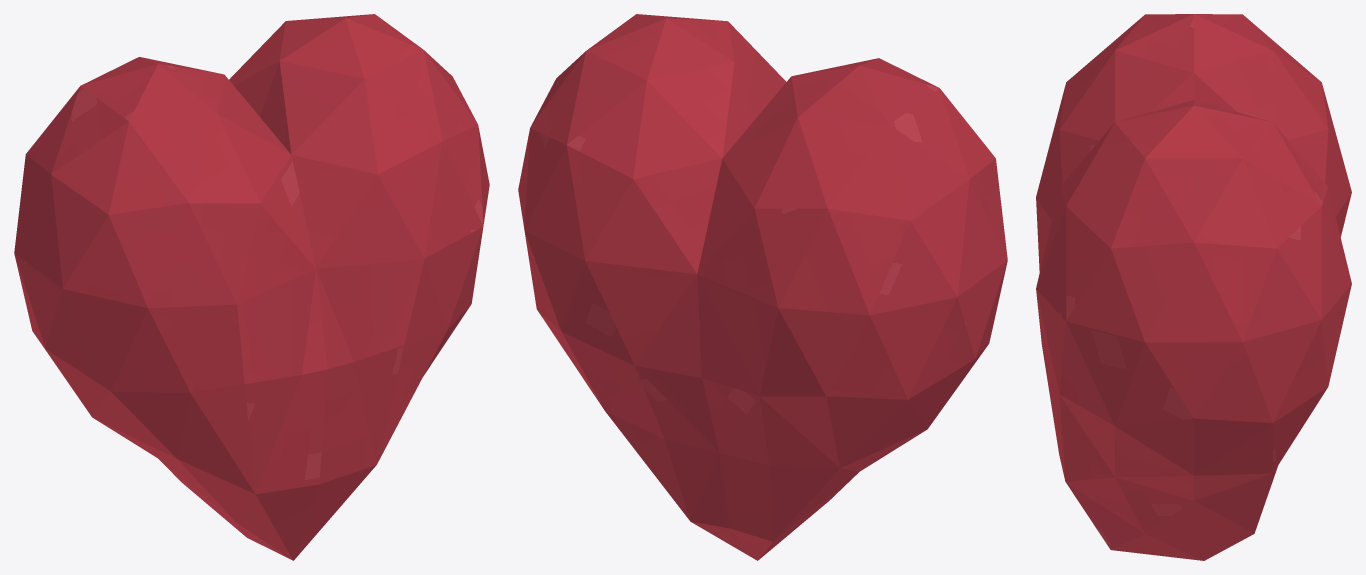
Rendered from item_artifactBloodkin.glb.
3 renders of one model, left to right at view 1: azimuth 30°, elevation 25°; view 2: azimuth 150°, elevation 25°; view 3: azimuth 270°, elevation 25°, orthographic. The views are drawn at different scales.
Parts seen in each view (by area): view 1: Donor_heart_0; view 2: Donor_heart_0; view 3: Donor_heart_0.
Boxes of the visible parts, box(x1,y1,x2,y2) form: Donor_heart_0: box(14, 14, 489, 560); Donor_heart_0: box(518, 14, 1007, 560); Donor_heart_0: box(1036, 14, 1351, 560).
Size of the model in its own units: 0.25 by 0.28 by 0.16.
Materials: 1 (1 with a texture image).
